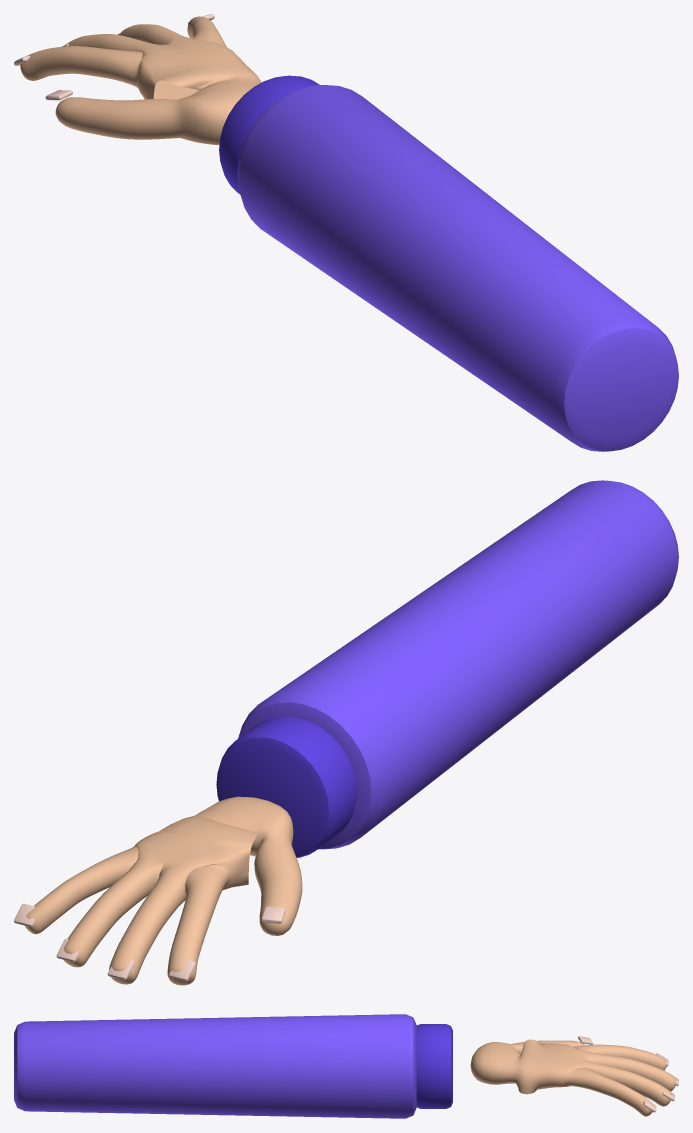
The model's file is hand.glb.
3 renders of one model, top to bottom at view 1: azimuth 30°, elevation 25°; view 2: azimuth 150°, elevation 25°; view 3: azimuth 270°, elevation 25°, orthographic. The views are drawn at different scales.
Parts seen in each view (by area): view 1: Sleeve, Hand, Cuff; view 2: Sleeve, Hand, Cuff; view 3: Sleeve, Hand, Cuff.
Part boxes in pixels (x1,y1,x2,y2): Sleeve: (237,85,678,451); Hand: (20,16,261,144); Cuff: (219,75,319,194); Sleeve: (238,480,678,849); Hand: (25,796,302,985); Cuff: (216,716,357,857); Sleeve: (14,1014,416,1118); Hand: (470,1039,676,1116); Cuff: (416,1024,452,1108).
Bounding box in the file's own units: 0.1383 × 0.0936 × 0.5945.
